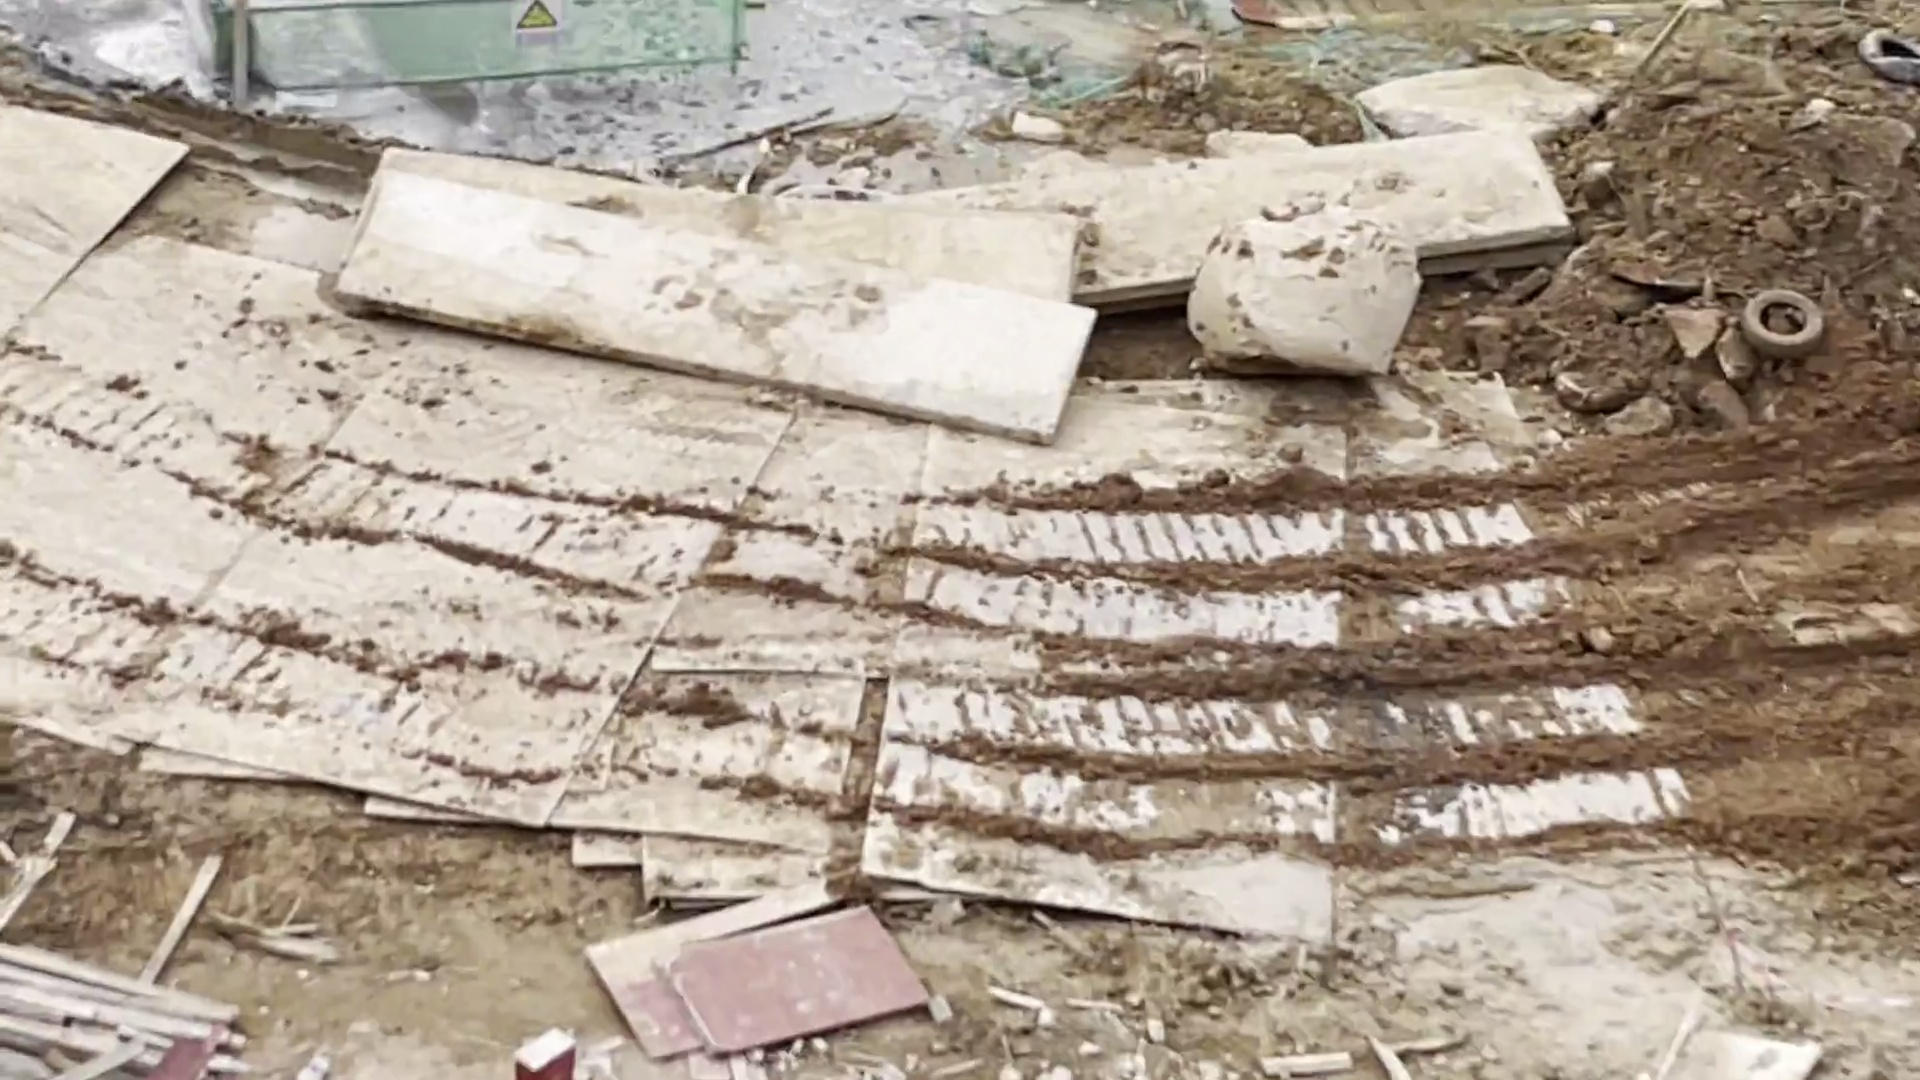slogan: (508, 3, 571, 50)
